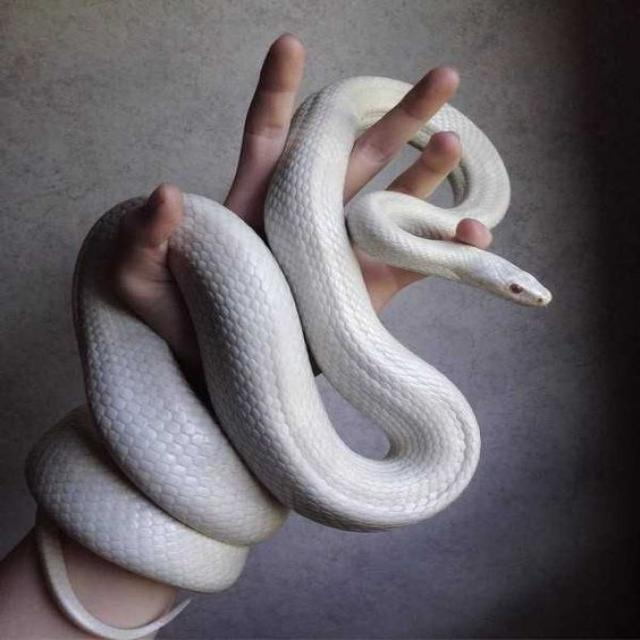Snake: (12, 55, 557, 600)
